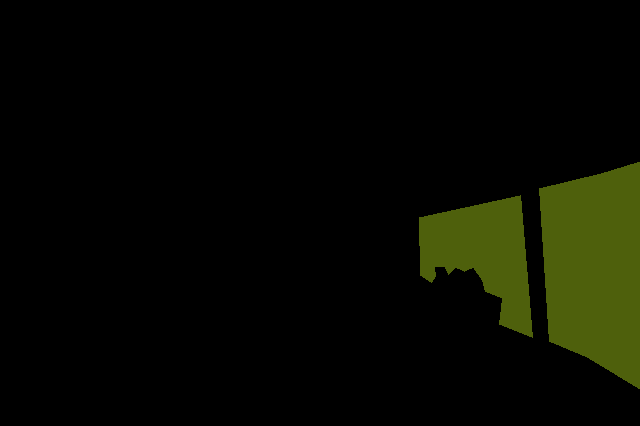Train: (419, 161, 640, 389)
